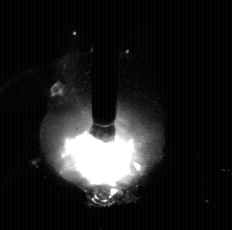arame: (91, 0, 119, 141)
poca: (40, 0, 166, 230)
